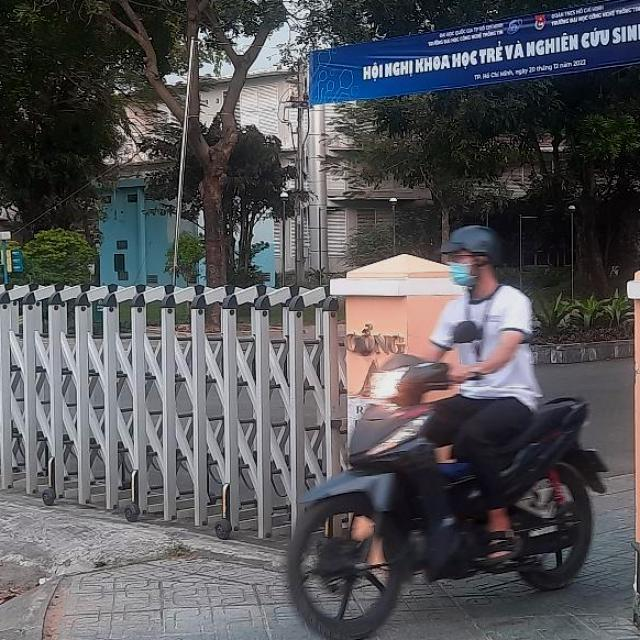Helmet: (444, 221, 506, 291)
